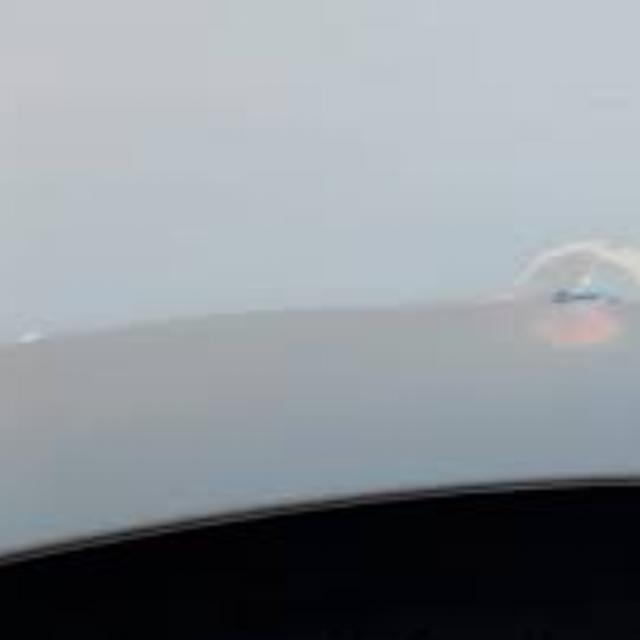dents: (467, 220, 640, 400)
